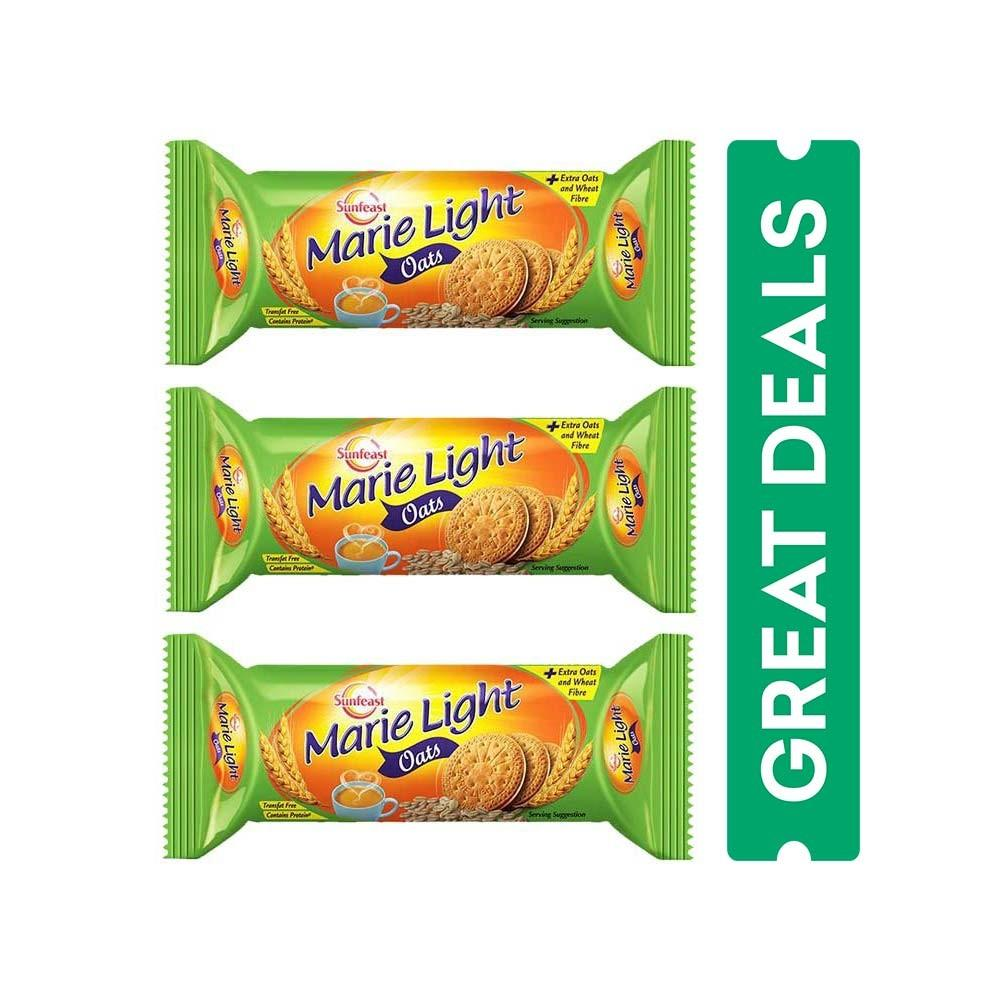MarieLight: (160, 136, 695, 371), (166, 626, 688, 864), (165, 384, 693, 616)
